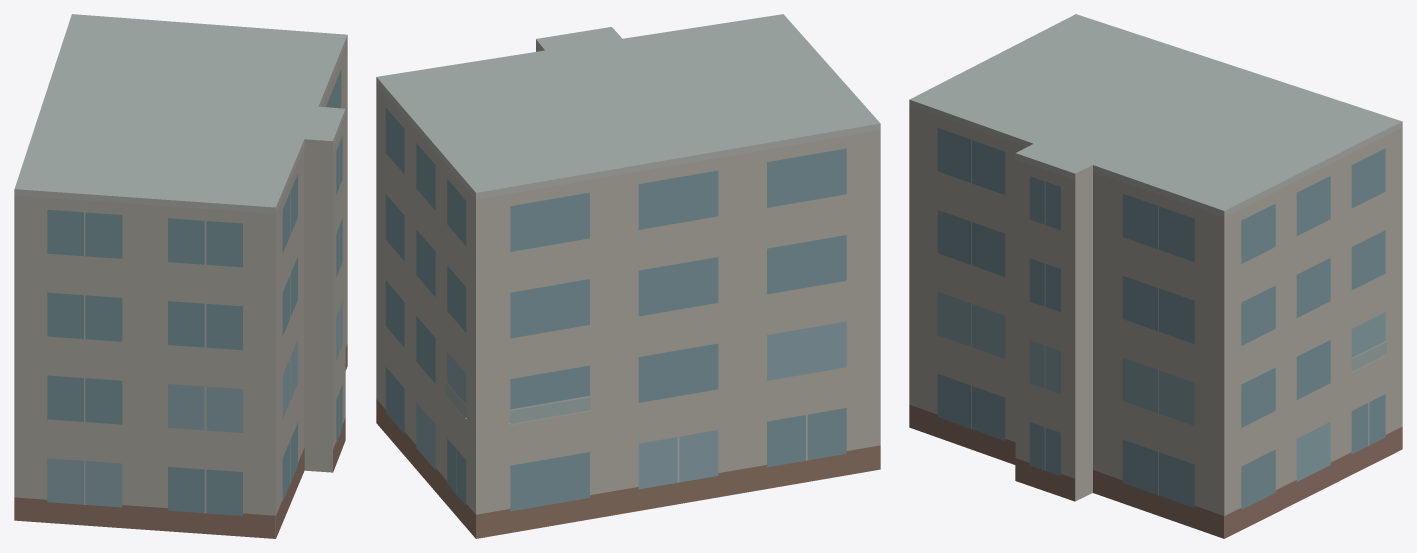
The model's file is survey-upis-32958031.glb.
3 views of the same model, side by side, from view 1: azimuth 30°, elevation 25°; view 2: azimuth 150°, elevation 25°; view 3: azimuth 270°, elevation 25° (orthographic). The views are drawn at different scales.
Parts seen in each view (by area): view 1: survey-upis-32958031.tmp; view 2: survey-upis-32958031.tmp; view 3: survey-upis-32958031.tmp.
Part boxes in pixels (x1,y1,x2,y2): survey-upis-32958031.tmp: (14,14,347,538); survey-upis-32958031.tmp: (376,14,880,538); survey-upis-32958031.tmp: (909,14,1402,538).
Bounding box in the file's own units: 16.37 × 12.7 × 17.32.
